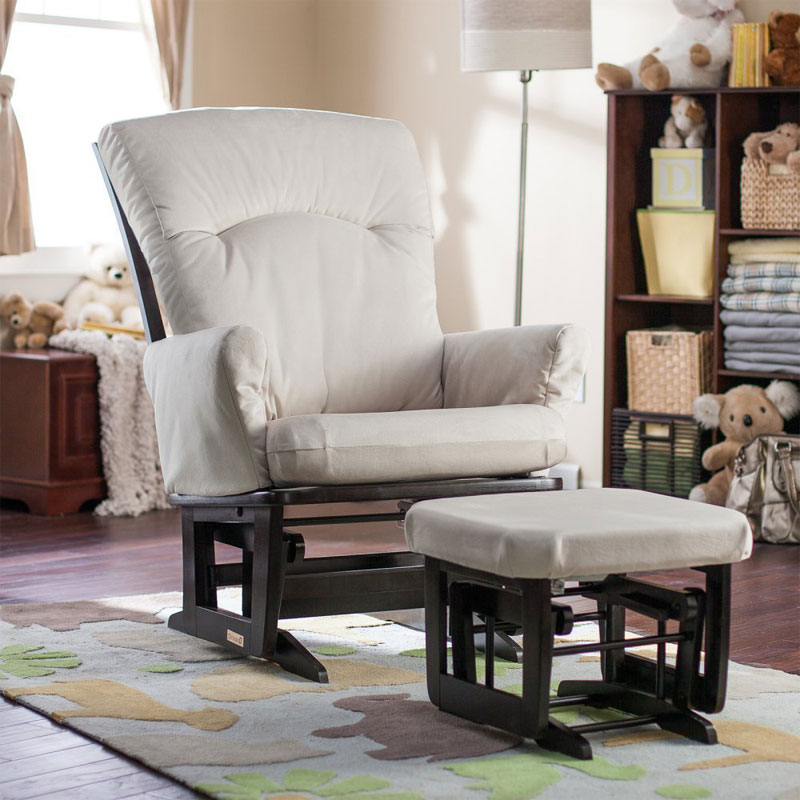chairs: (85, 107, 599, 678), (402, 485, 764, 758)
